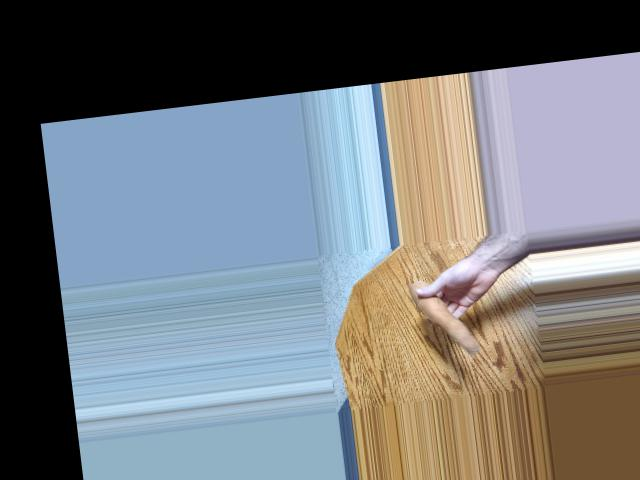sweet_potato: (412, 275, 482, 359)
